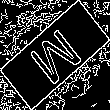M_SE: (23, 21, 87, 89)
